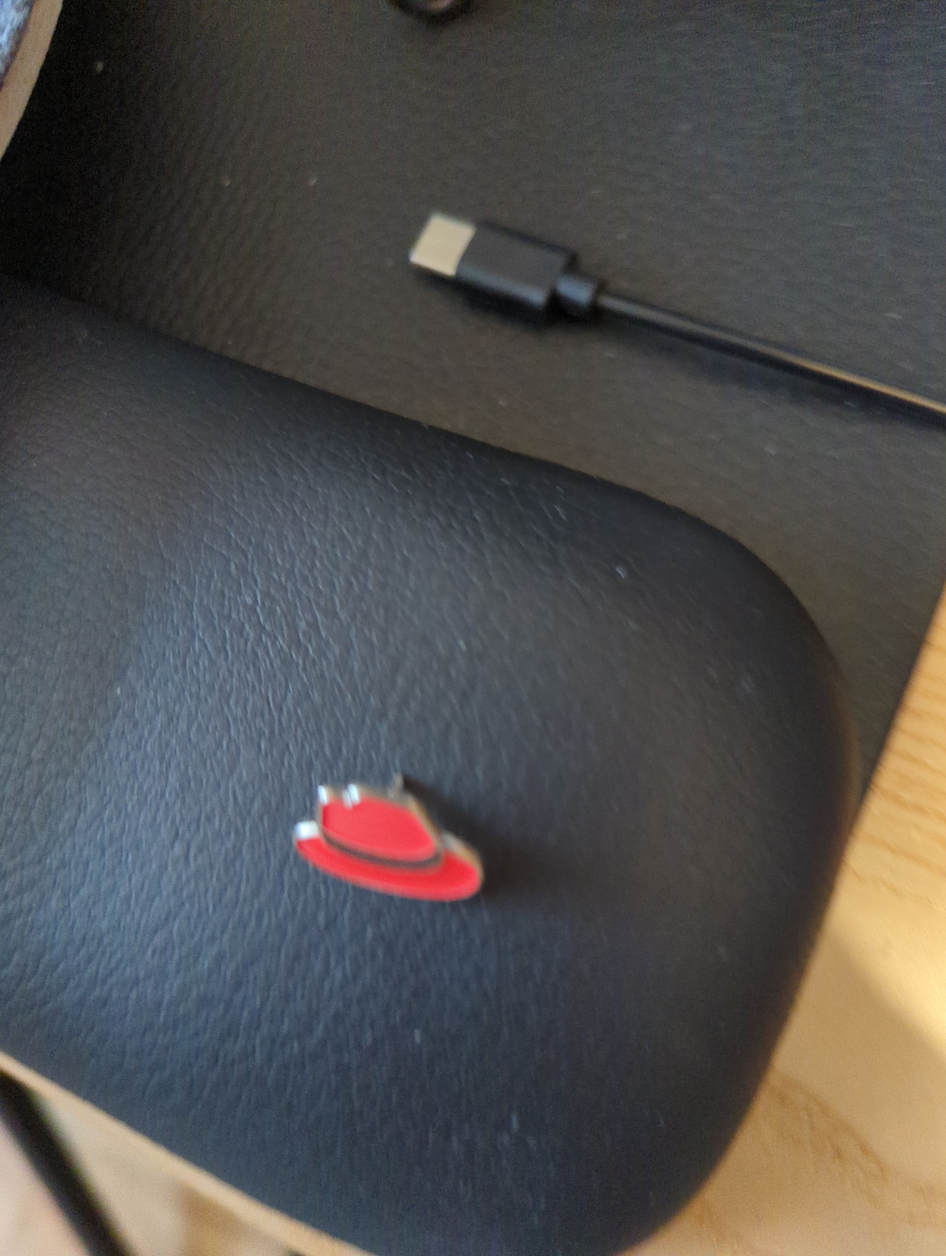Red-Hat: (223, 705, 577, 970)
